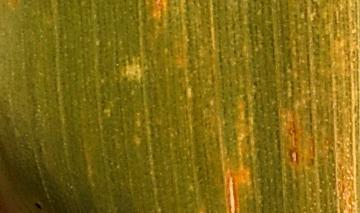tarspot: (32, 201, 45, 212), (309, 1, 315, 6)
